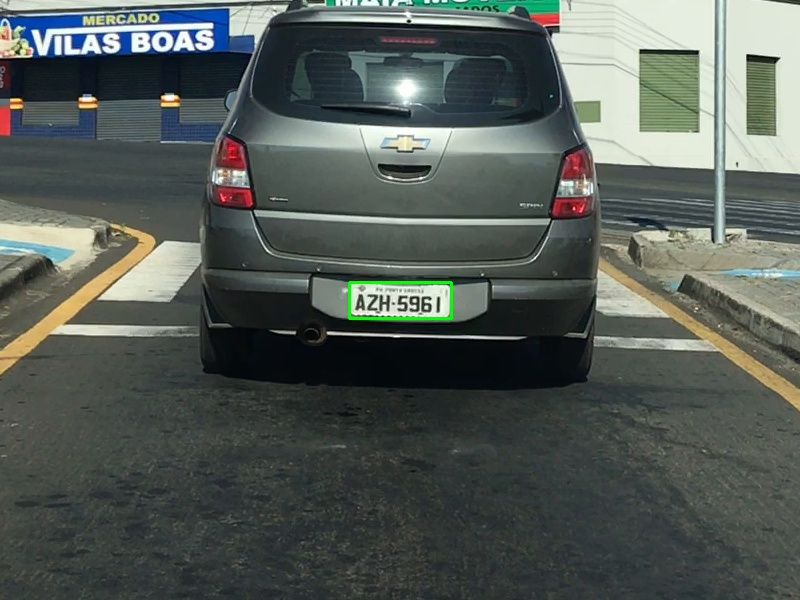placa: (349, 282, 451, 318)
